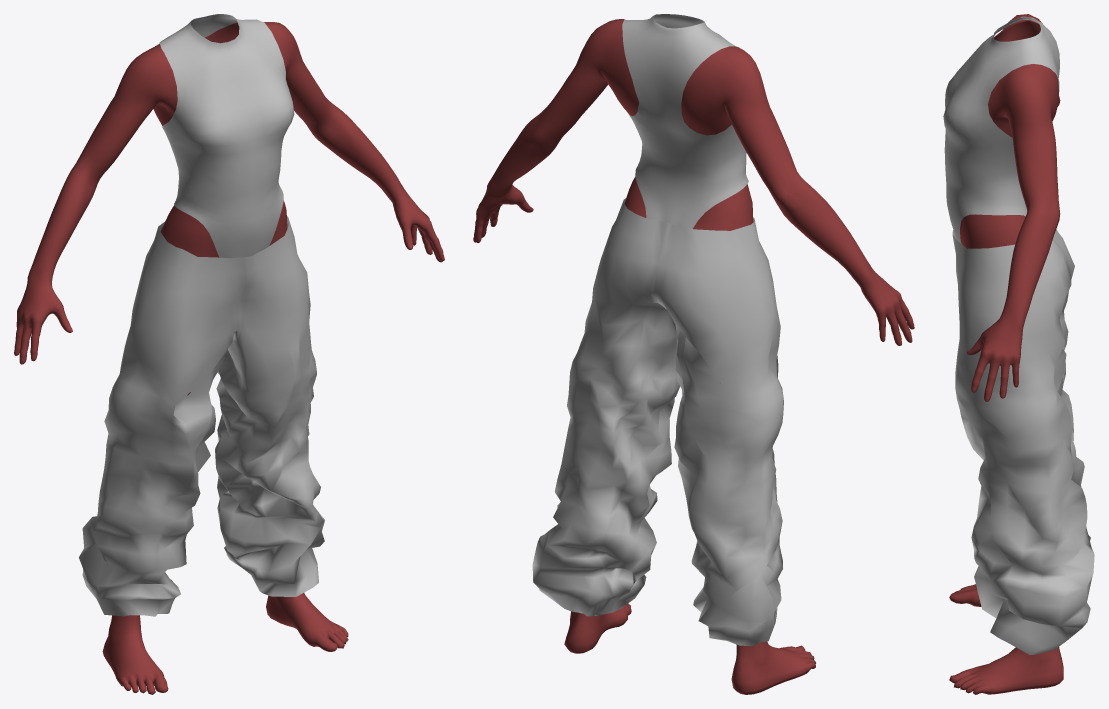
File: z4 whole low 1.fbx
The picture shows the model from 3 angles, left to right: view 1: azimuth 30°, elevation 25°; view 2: azimuth 150°, elevation 25°; view 3: azimuth 270°, elevation 25°; orthographic projection. The views are drawn at different scales.
Visible parts, largest first — view 1: polySurface94, body_low_no_head_zyr4, beixin; view 2: polySurface94, body_low_no_head_zyr4, beixin; view 3: polySurface94, body_low_no_head_zyr4, beixin.
Part boxes in pixels (x1,y1,x2,y2): polySurface94: (79,216,324,616); body_low_no_head_zyr4: (14,22,444,694); beixin: (159,14,294,258); polySurface94: (532,198,783,646); body_low_no_head_zyr4: (473,19,914,694); beixin: (622,14,748,228); polySurface94: (952,229,1094,654); body_low_no_head_zyr4: (949,14,1063,694); beixin: (943,16,1059,243).
Size of the model in its own units: 17057 by 24213 by 5375.
